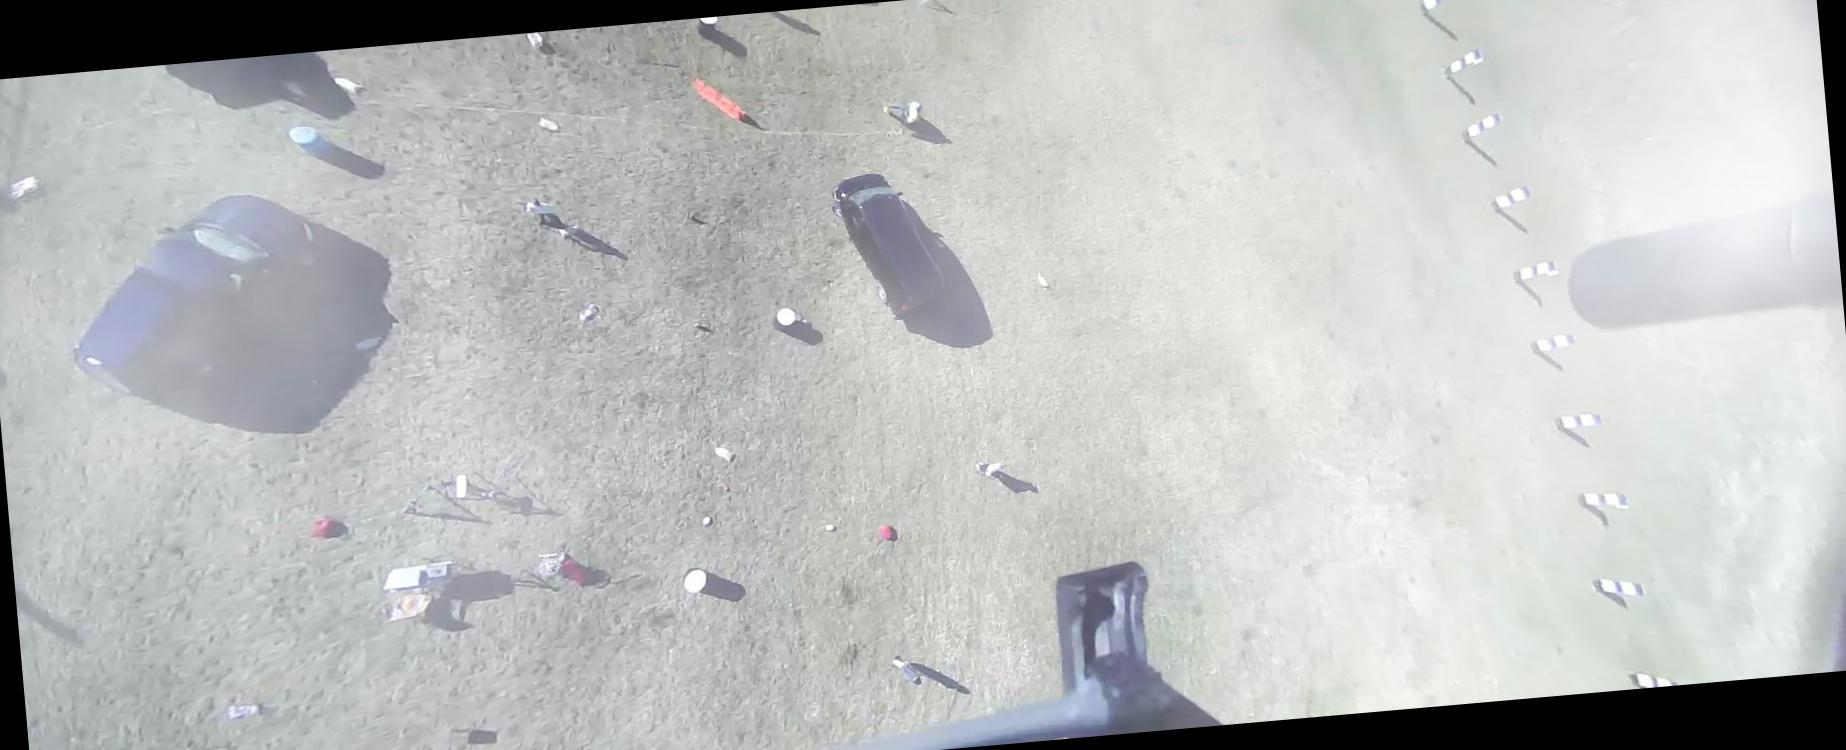vehicle: (60, 186, 332, 405), (831, 167, 950, 324)
